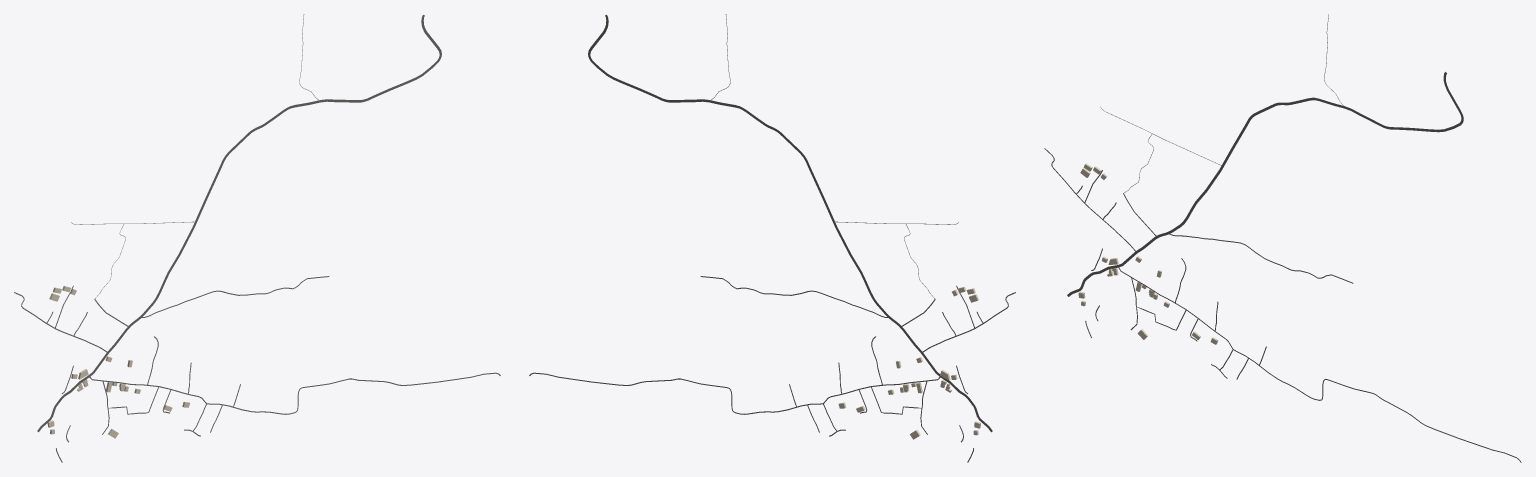
Rendered from historic-palestine-10_31_3517_3250.glb.
3 views of the same model, side by side, from view 1: azimuth 30°, elevation 25°; view 2: azimuth 150°, elevation 25°; view 3: azimuth 330°, elevation 25° (orthographic). The views are drawn at different scales.
Visible parts, largest first — view 1: Road منطقة عانين, Road عانين.004; view 2: Road منطقة عانين, Road عانين.004; view 3: Road منطقة عانين, Road عانين.004.
Boxes of the visible parts, box(x1,y1,x2,y2) form: Road منطقة عانين: box(88, 15, 441, 376); Road عانين.004: box(89, 372, 500, 414); Road منطقة عانين: box(588, 15, 940, 376); Road عانين.004: box(529, 372, 940, 414); Road منطقة عانين: box(1117, 72, 1463, 267); Road عانين.004: box(1117, 266, 1521, 462).
Size of the model in its own units: 1626 by 1309 by 8.7.
